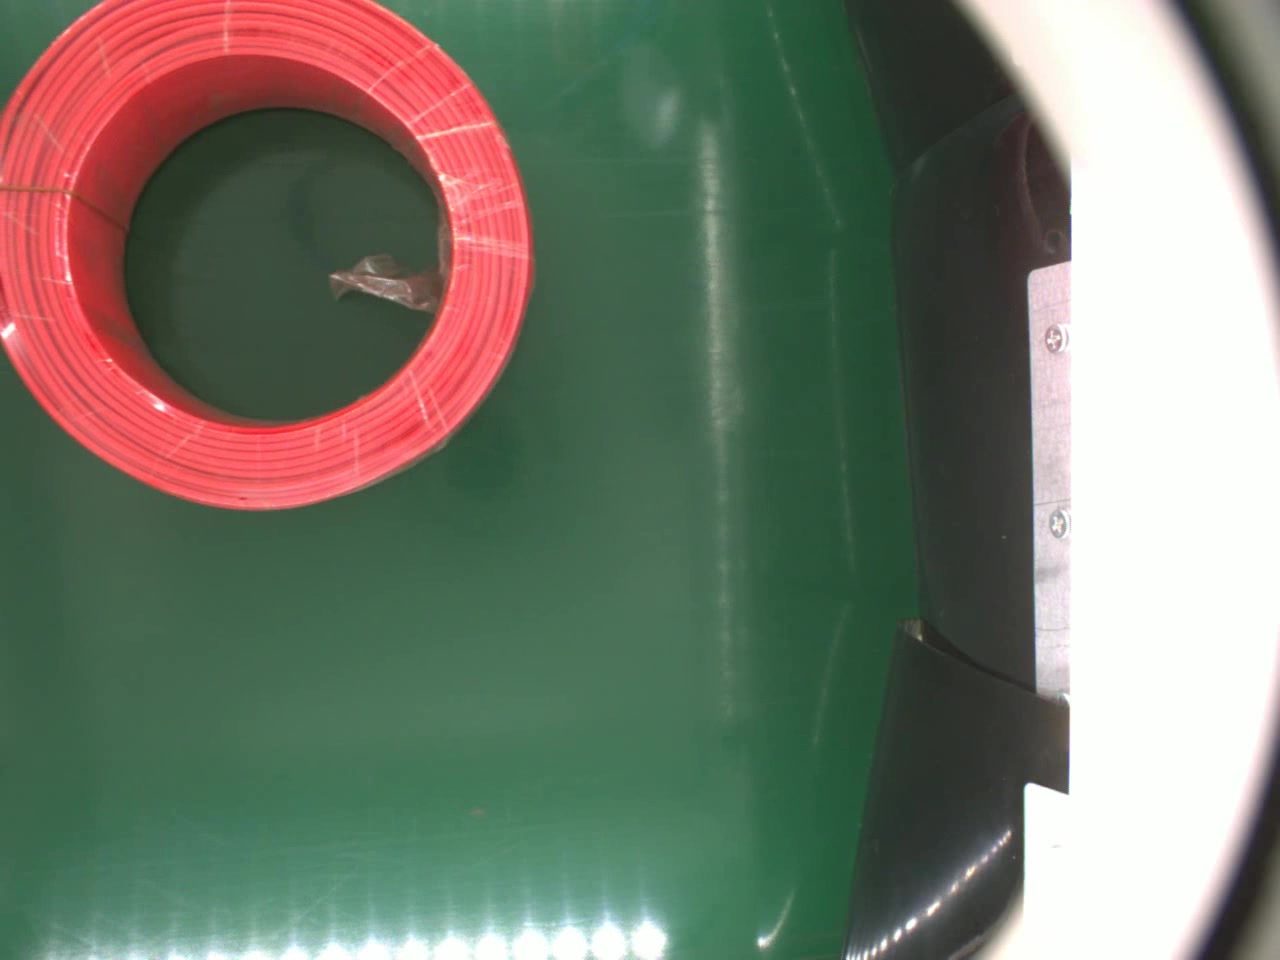red: (0, 0, 542, 518)
